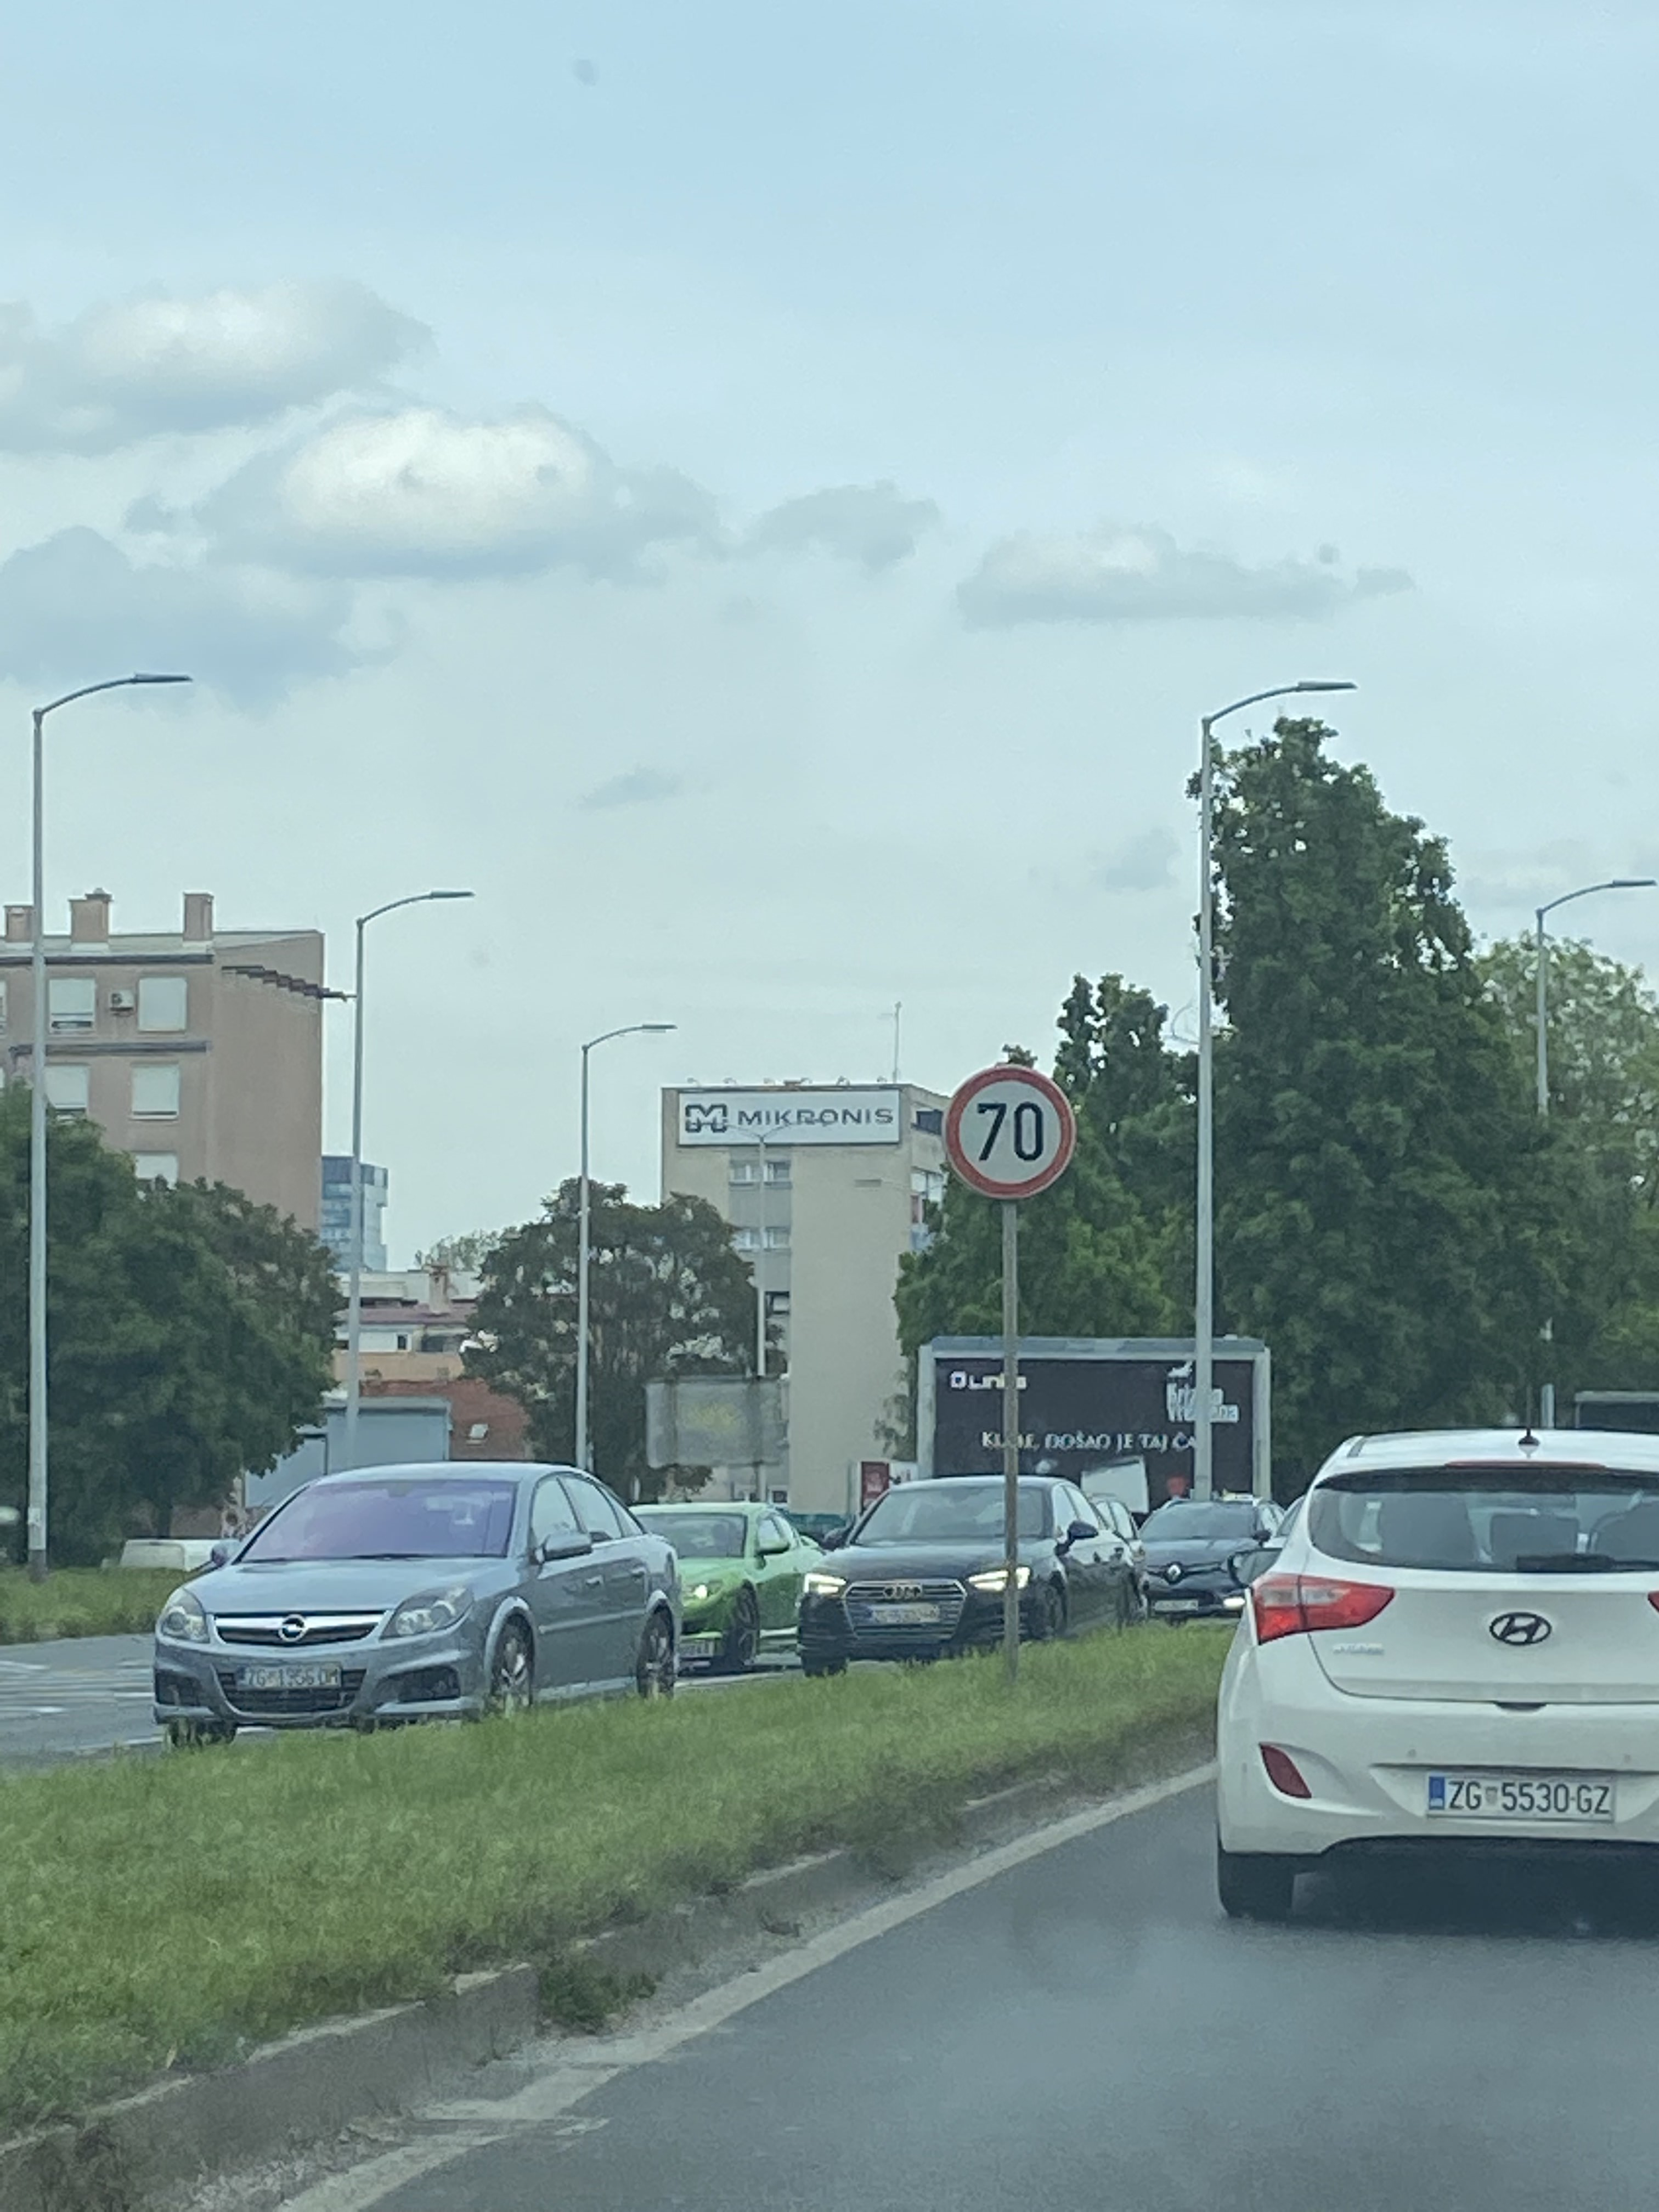Ograničenje brzine 70: (941, 1064, 1075, 1200)
